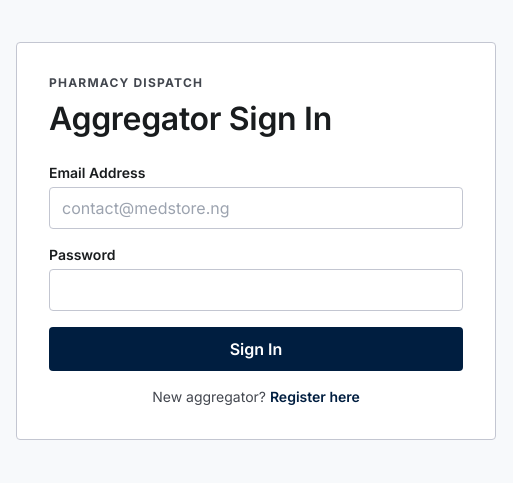
Test: AggregatorLoginPage › shows "Something went wrong" on non-ApiError
This screenshot has width=513, height=483.
Type "user@test.com" into the field labelled "Email Address" at (256, 208), box left=49, top=187, right=463, bottom=229
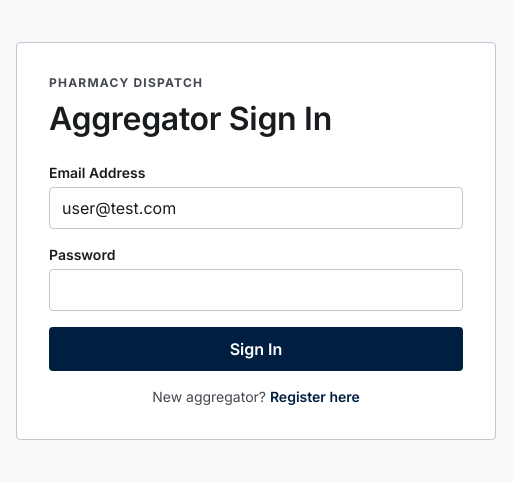
Type "mypassword" into the password field labelled "Password" at (256, 290), box left=49, top=269, right=463, bottom=311
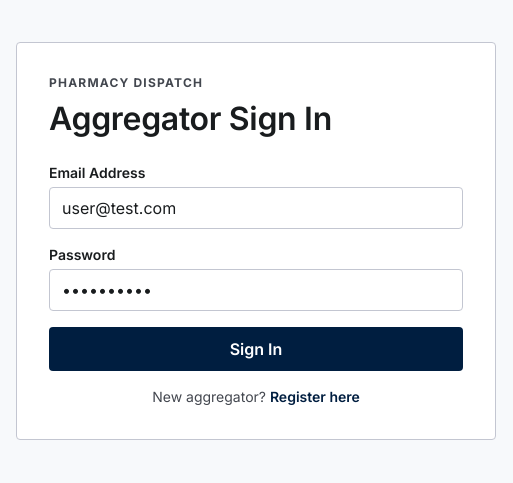
Click the button "Sign In" at (256, 349), box left=49, top=327, right=463, bottom=371
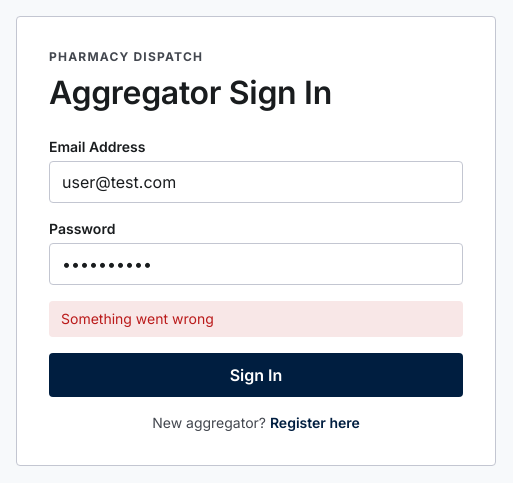
Expected: the message reads "Something went wrong", left=61, top=310, right=214, bottom=327
